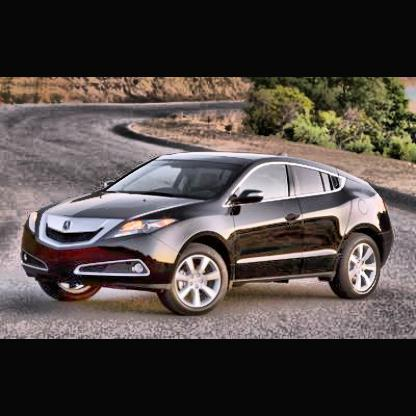Acura ZDX Hatchback 2012: (21, 154, 397, 318)
